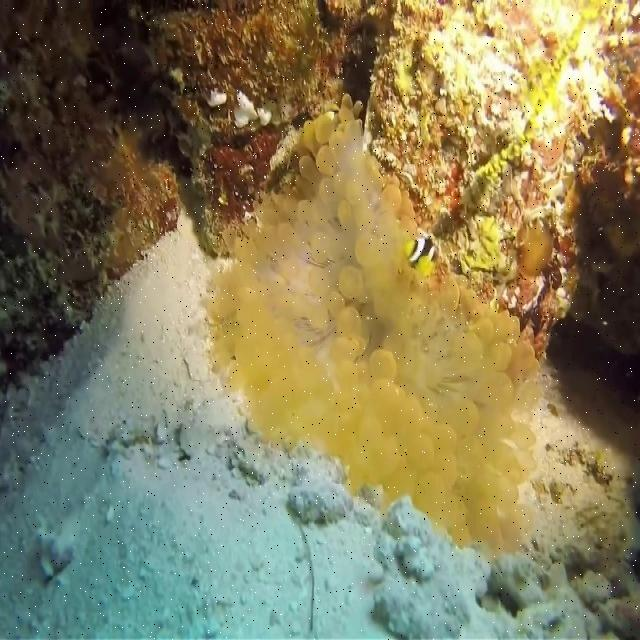fish: (404, 237, 440, 277)
reefs: (211, 93, 541, 562), (325, 2, 639, 365), (0, 2, 179, 399), (122, 1, 370, 260)
